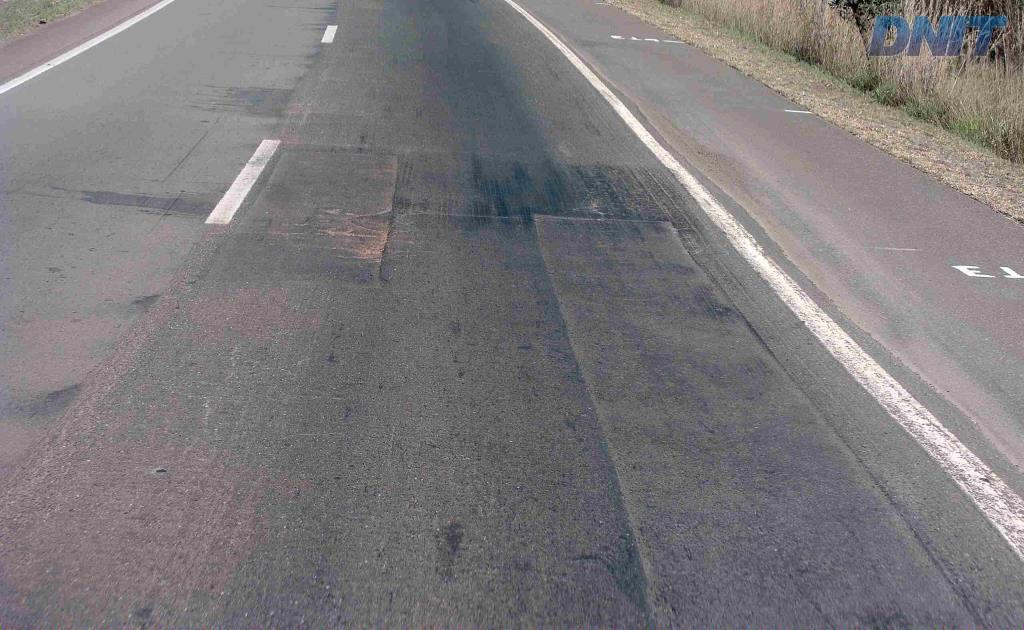pothole: (357, 228, 392, 260)
